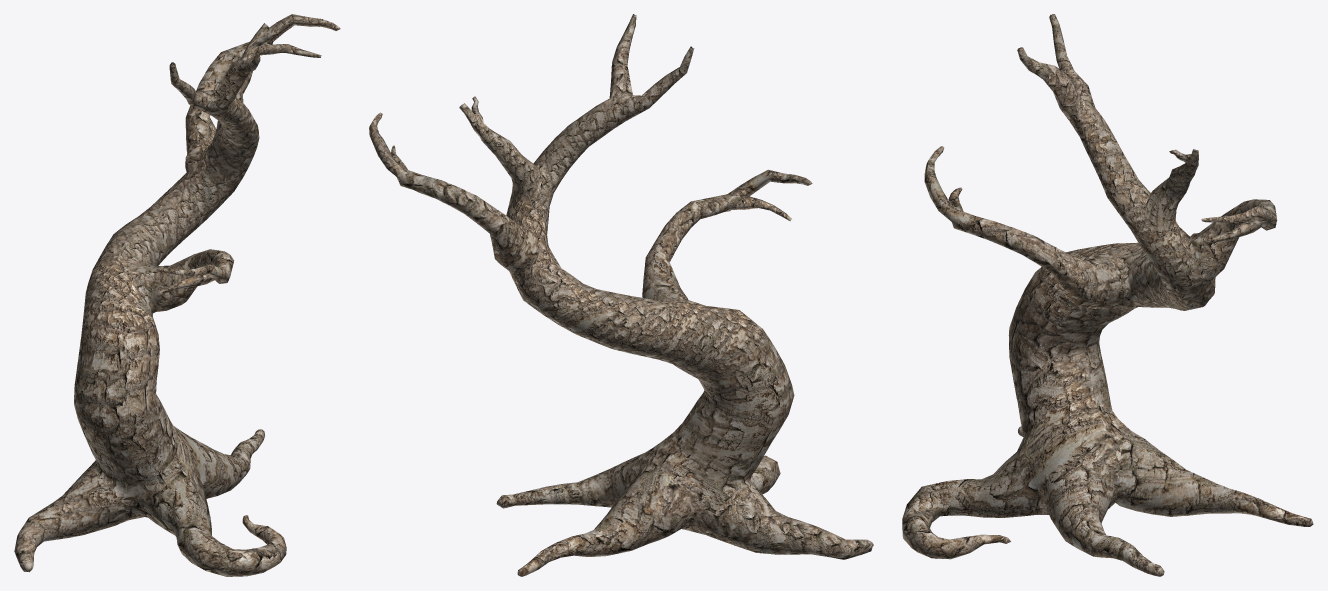
The model's file is TreeTwo.fbx.
The picture shows the model from 3 angles, left to right: view 1: azimuth 30°, elevation 25°; view 2: azimuth 150°, elevation 25°; view 3: azimuth 270°, elevation 25°; orthographic projection. The views are drawn at different scales.
Parts seen in each view (by area): view 1: Tree_2; view 2: Tree_2; view 3: Tree_2.
Boxes of the visible parts, <box> form: Tree_2: <box>14,14,340,576</box>; Tree_2: <box>369,14,873,576</box>; Tree_2: <box>902,14,1313,576</box>.
Size of the model in its own units: 551 by 624 by 446.
